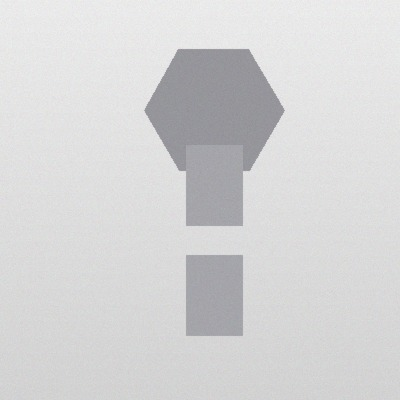broken: (174, 220, 254, 260)
